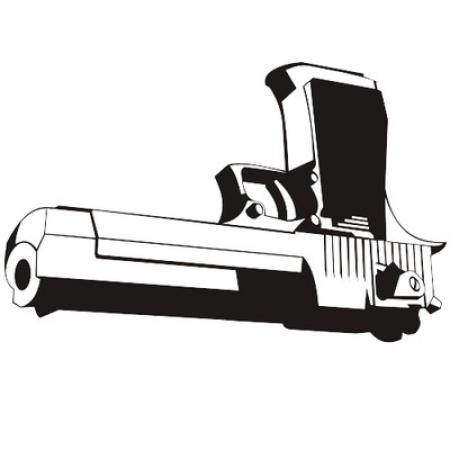Pistol: (24, 68, 444, 363)
